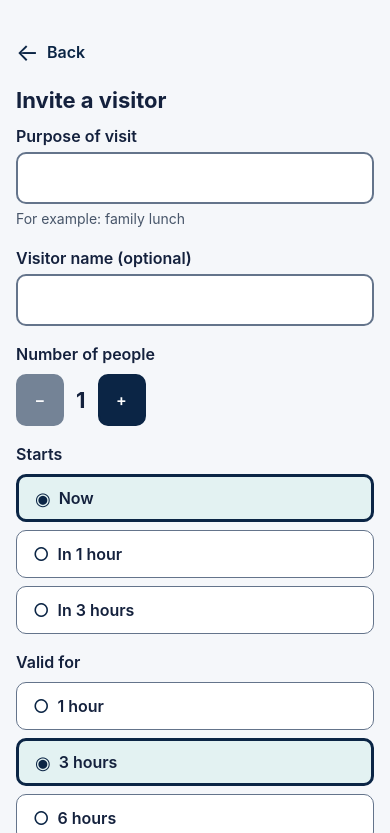
Test: invite creation › a policy refusal (422) is shown with its i18n message
Type "x" into the field with test id "input-purpose" at (195, 178), box [16,152,374,204]
(page scrolled)
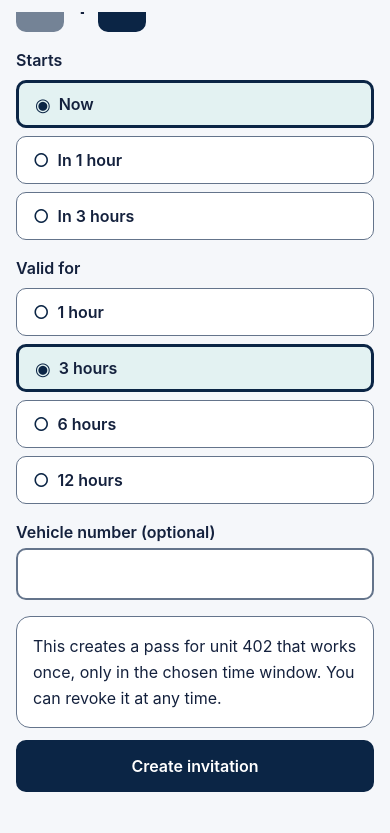
Click the button "Create invitation" at (195, 766), box [16,740,374,792]
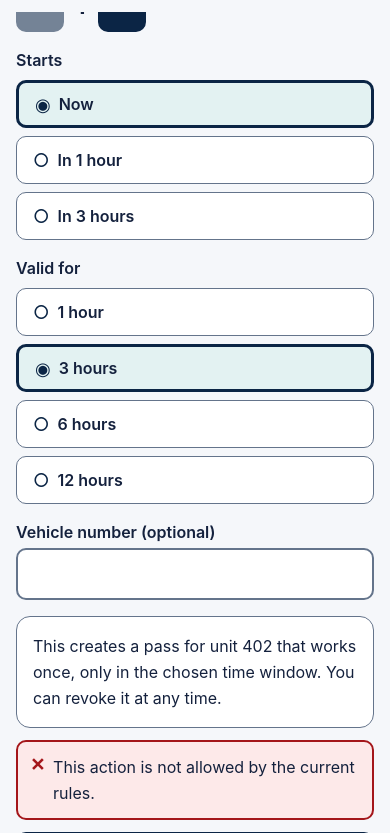
Now the text "This action is not allowed by the current rules." is shown, box [53,754,360,806]
